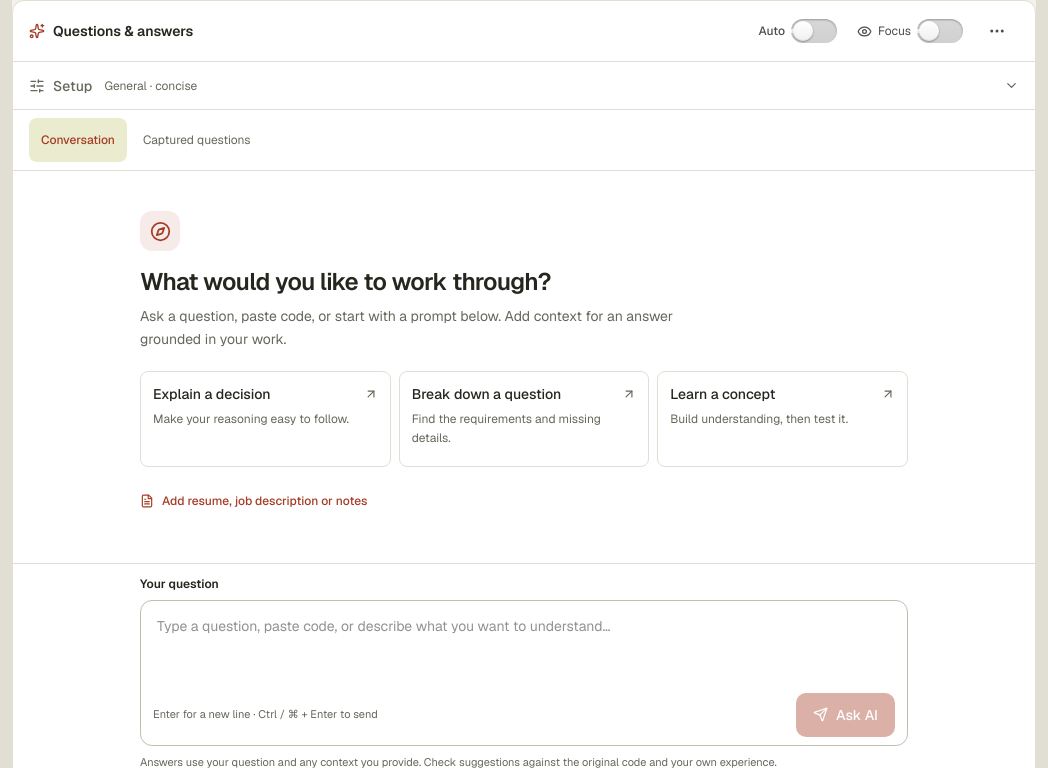
Scenario: standalone AI workspace › populates and focuses a suggested question without generating an answer
Click the button "Explain a decision Make your reasoning easy to follow." at [265, 418], box [140,370,391,466]
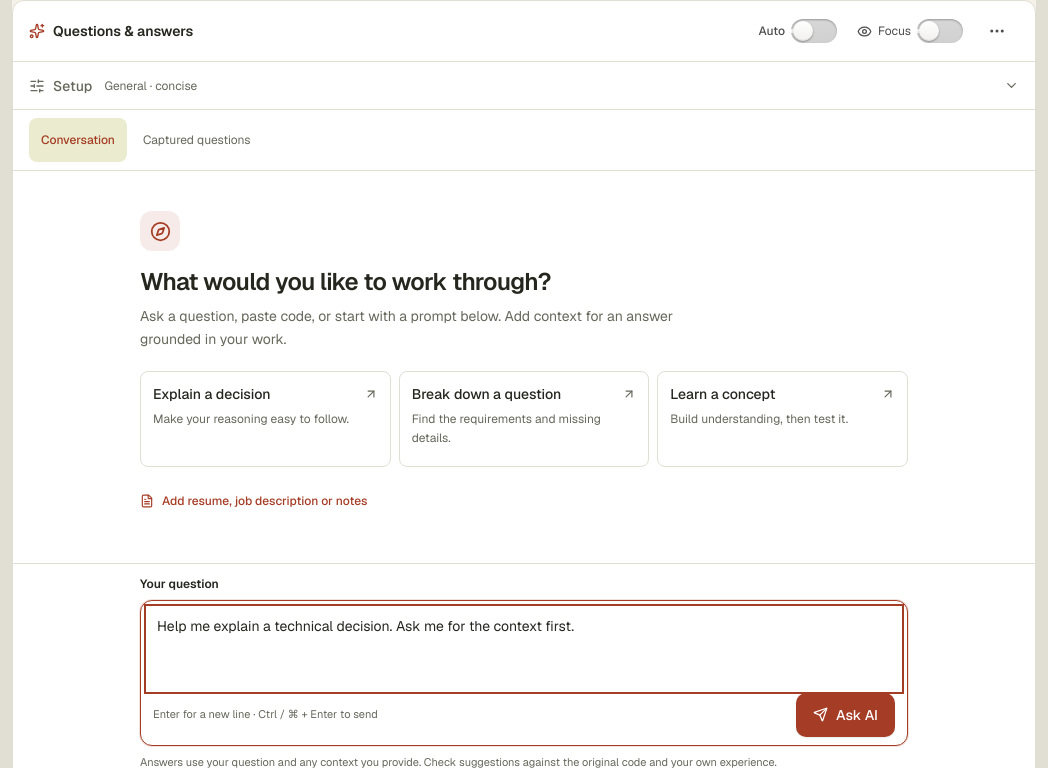
Result: the text box labelled "Your question" holds "Help me explain a technical decision. Ask me for the context first." at [149,608,899,688]
